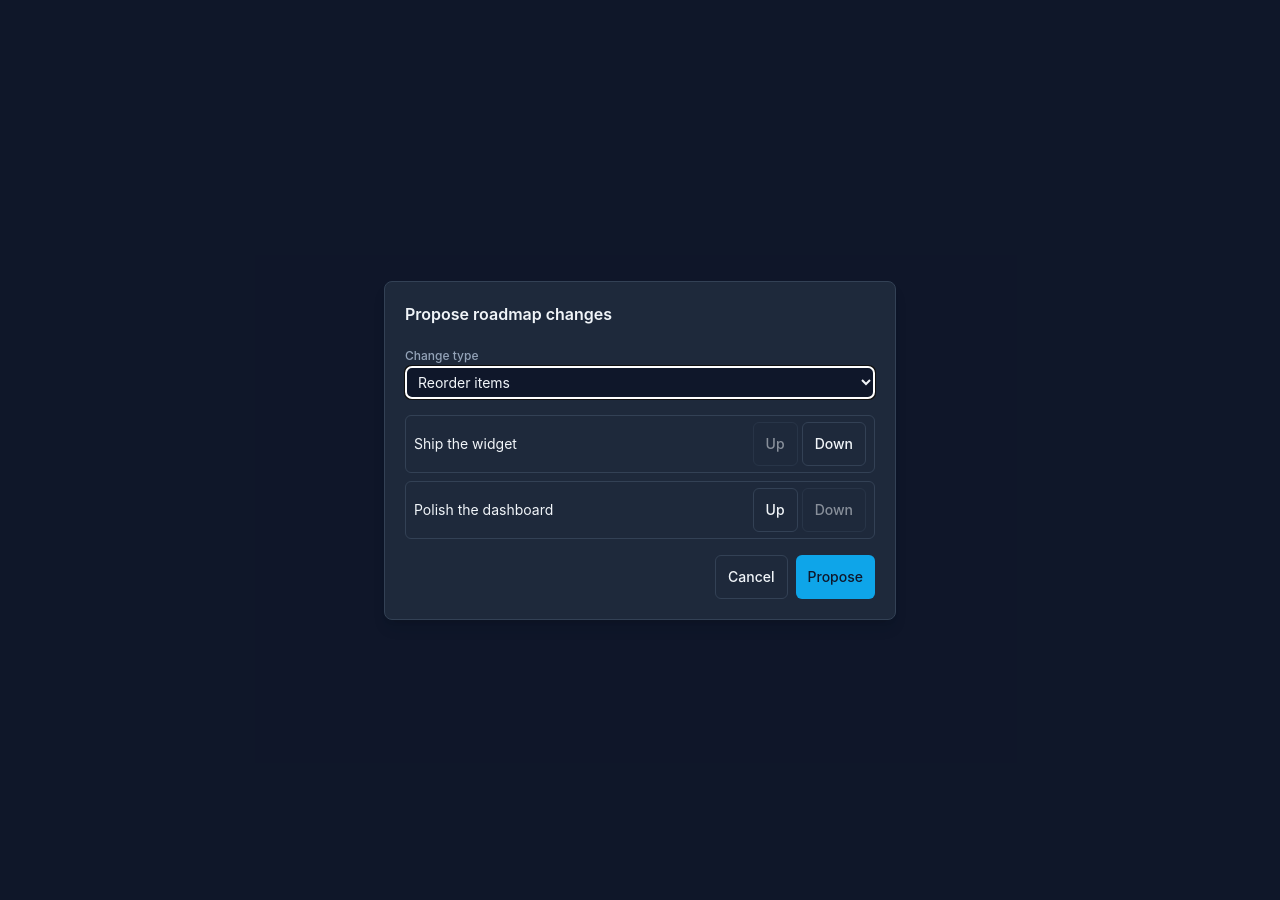
Test: ProposeRoadmapChangesModal › switches to Edit mode, prefilling the first item's title/text
Select "Edit an item" in the dropdown with test id "propose-roadmap-mode-select" at {"x": 640, "y": 382}, box [405,366,875,398]
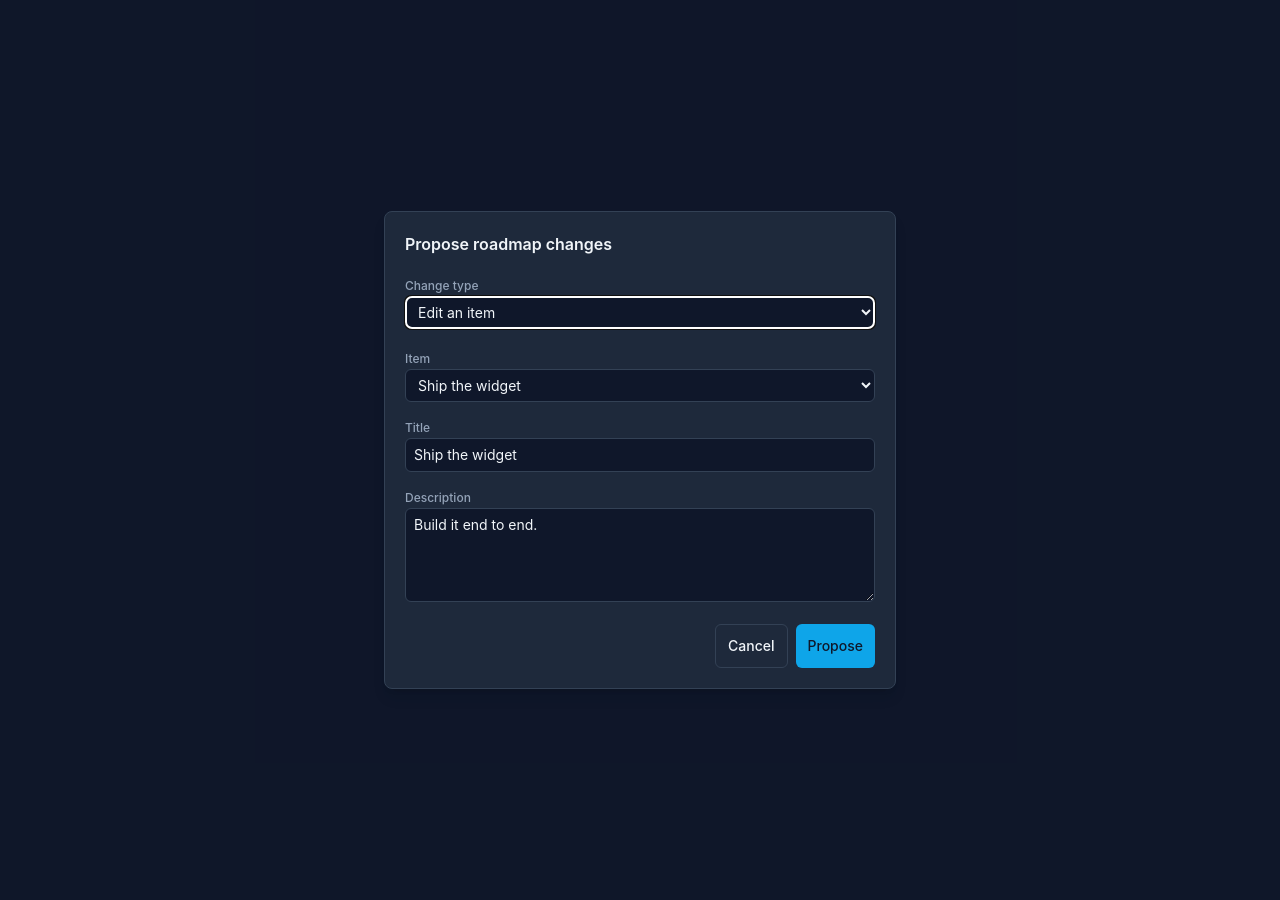
Expected: the dropdown with test id "propose-roadmap-edit-item-select" shows "Ship the widget", [405,369,875,402]
Expected: the field with test id "propose-roadmap-edit-title" holds "Ship the widget", [405,438,875,472]
Expected: the text box with test id "propose-roadmap-edit-text" holds "Build it end to end.", [405,508,875,602]
